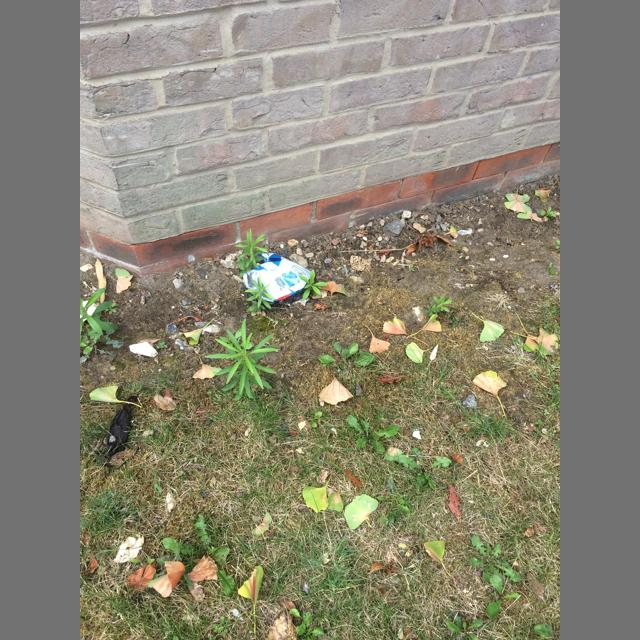litter: (243, 253, 311, 302)
